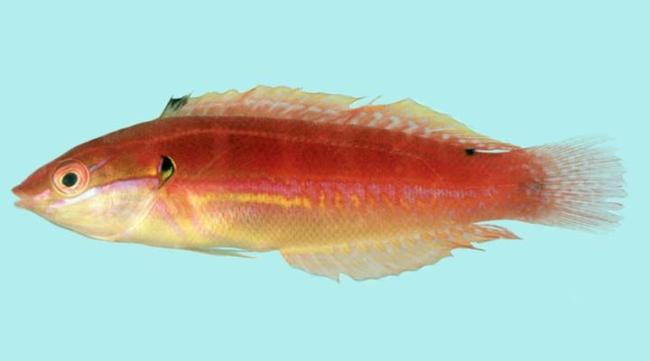fish: (13, 86, 630, 283)
